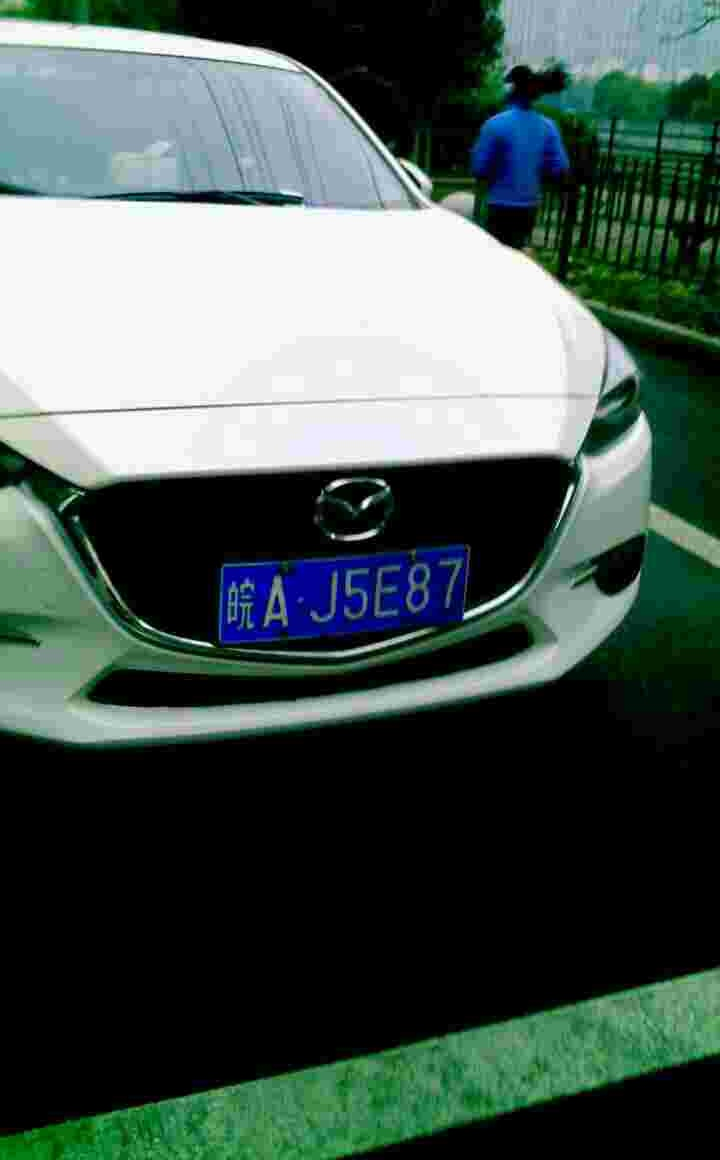license_plate: (221, 541, 480, 649)
